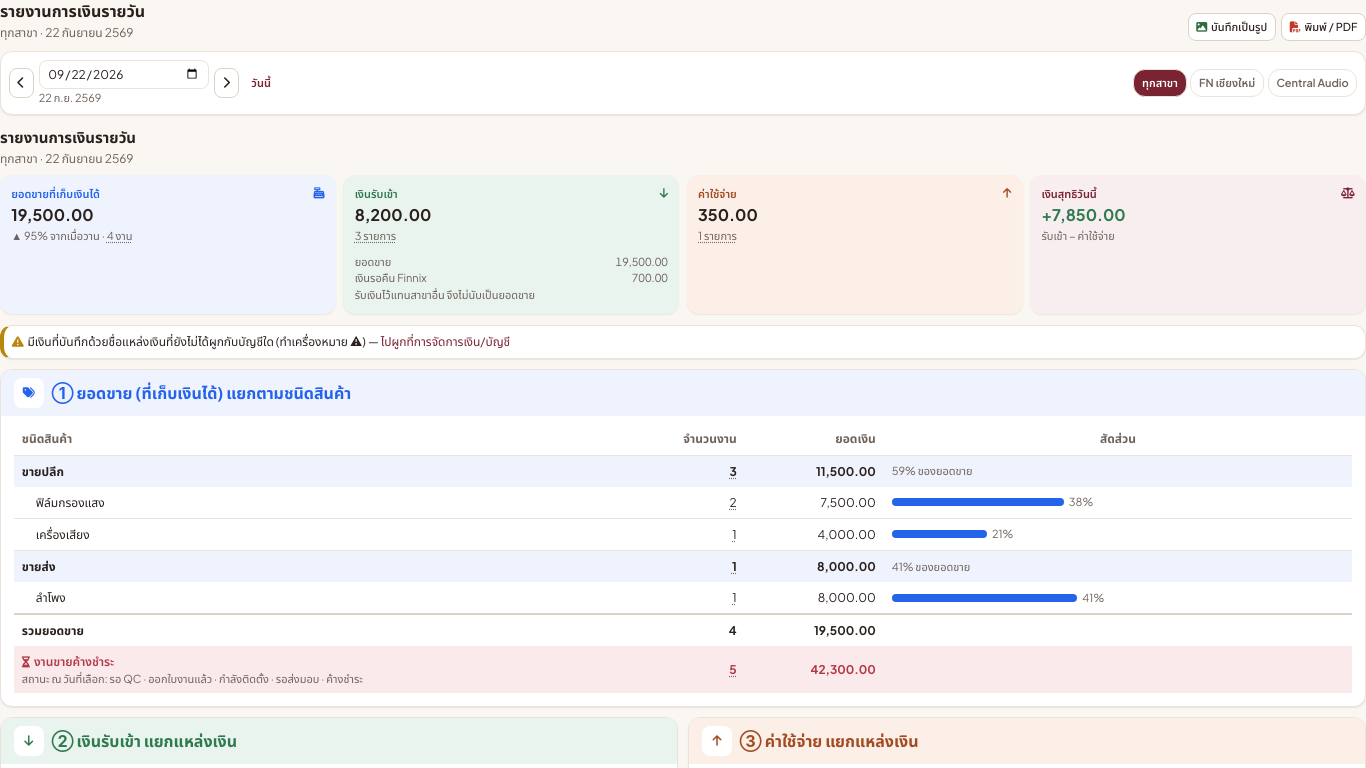
Test case: DailyReportView — ที่มาของจำนวน › ชี้เมาส์ที่จำนวนงาน แล้วเห็นใบงานที่จ่ายเงินเข้ามา
This screenshot has width=1366, height=768.
Hover over the button with aria-label "ดูที่มาของ4 งาน" at (120, 236), box [107, 228, 133, 244]
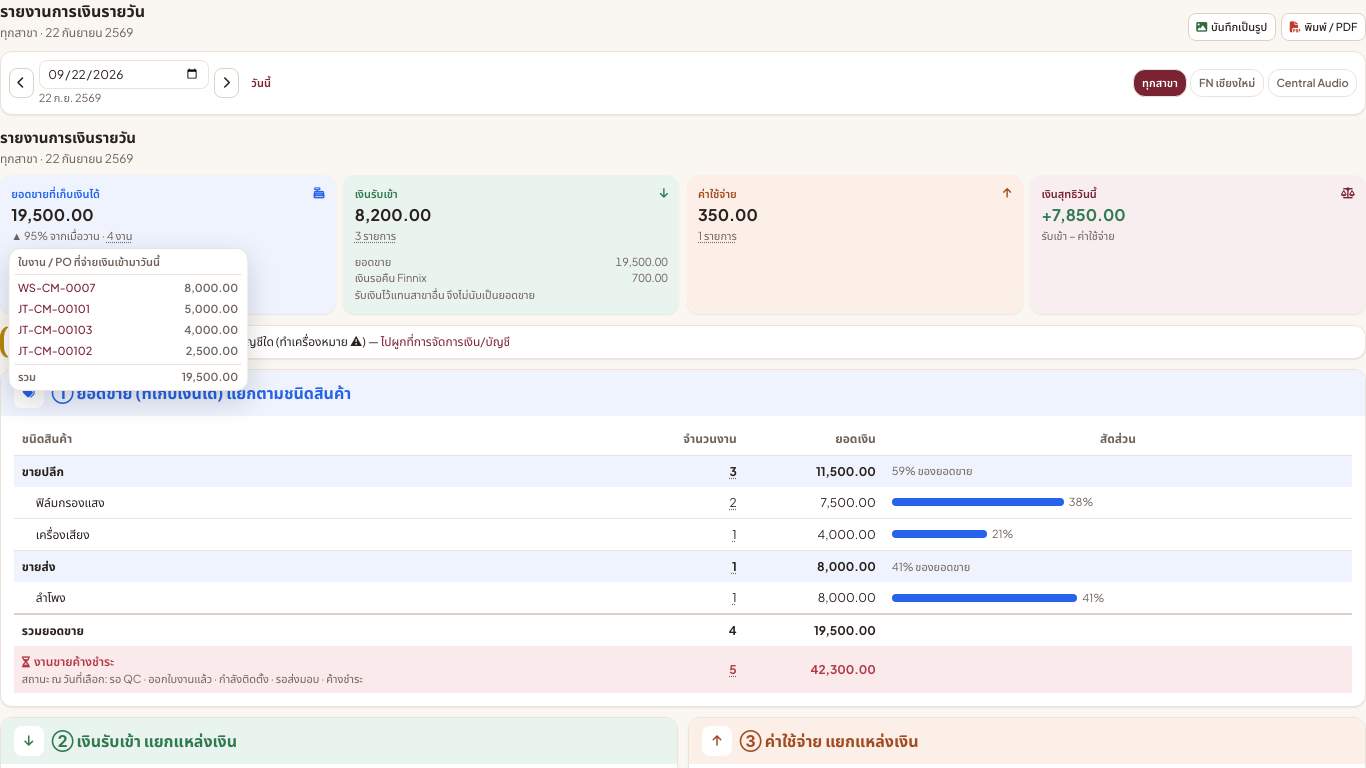
expect the link "WS-CM-0007" is shown: met, box [18, 281, 96, 294]
expect the link "JT-CM-00101" is shown: met, box [18, 302, 90, 315]
expect the text "19,500.00" below "JT-CM-00102" is shown: met, box [182, 370, 238, 383]
